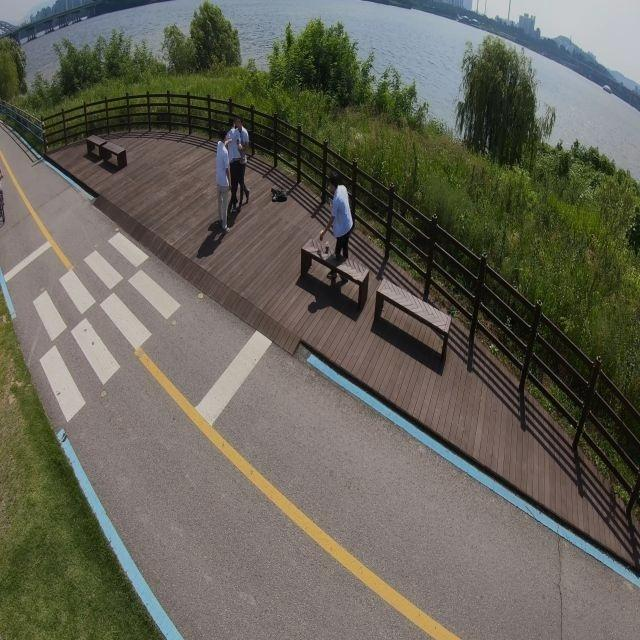fight: (218, 116, 251, 229)
non-fight: (319, 180, 352, 264)
